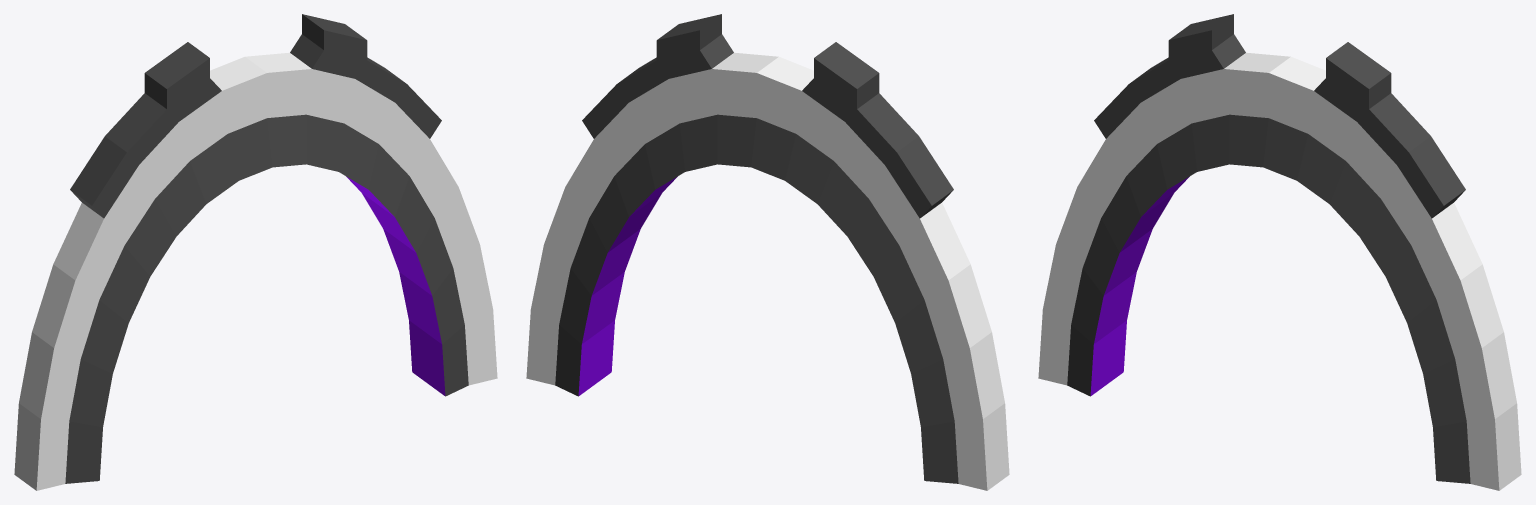
Rendered from Doorway.dae.
3 views of the same model, side by side, from view 1: azimuth 30°, elevation 25°; view 2: azimuth 150°, elevation 25°; view 3: azimuth 330°, elevation 25° (orthographic).
Visible parts, largest first — view 1: Cylinder.002; view 2: Cylinder.002; view 3: Cylinder.002.
Part boxes in pixels (x1,y1,x2,y2): Cylinder.002: (14, 14, 497, 490); Cylinder.002: (526, 14, 1009, 490); Cylinder.002: (1038, 14, 1521, 490).
Bounding box in the file's own units: 6 × 0.75 × 4.86.
